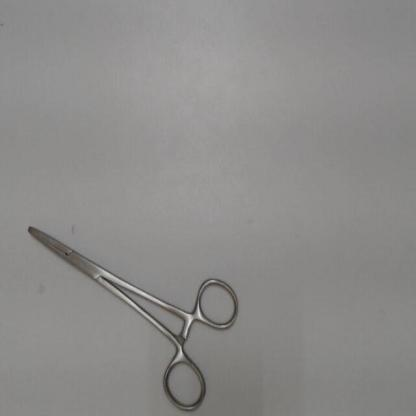Mayo Needle Holder: (21, 212, 247, 414)
